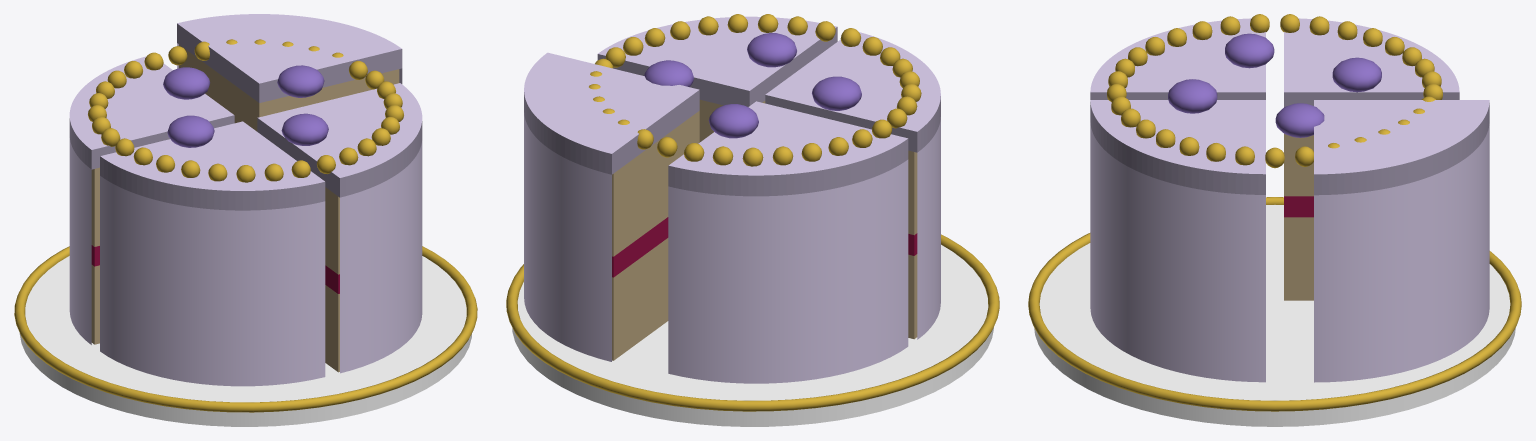
Rendered from torta-15cm-10alto-1p-4porc-lavanda.glb.
The picture shows the model from 3 angles, left to right: view 1: azimuth 30°, elevation 25°; view 2: azimuth 150°, elevation 25°; view 3: azimuth 270°, elevation 25°; orthographic projection. The views are drawn at different scales.
Bounding box in the file's own units: 0.215 × 0.1216 × 0.215.
